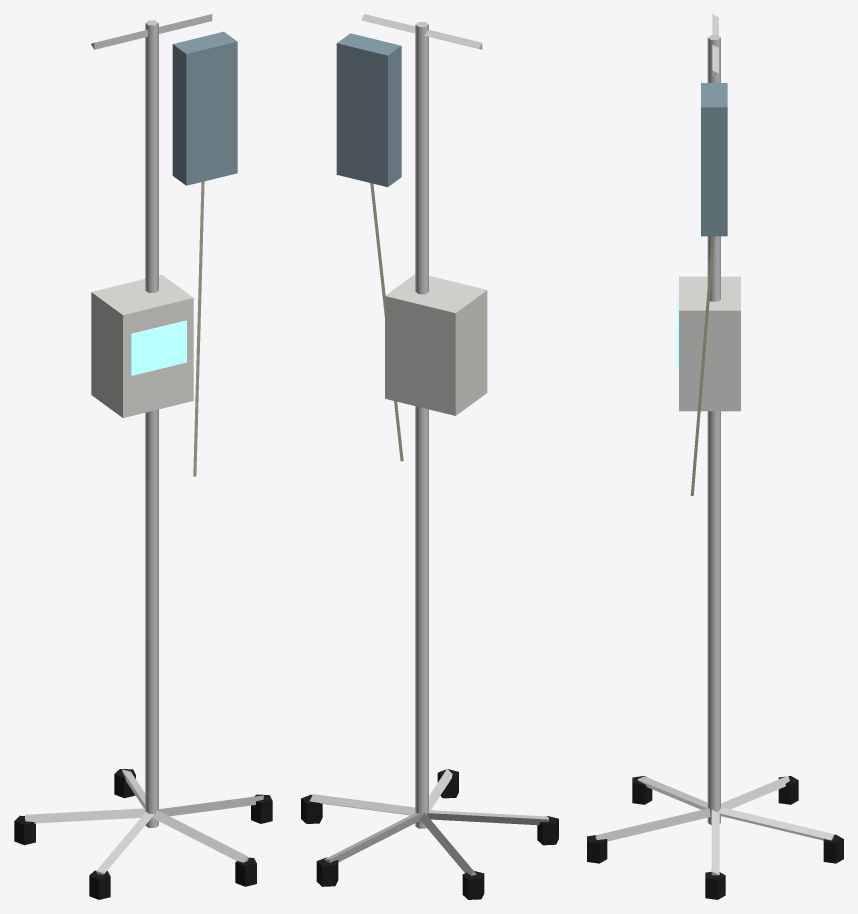
File: iv_stand.glb
3 views of the same model, side by side, from view 1: azimuth 30°, elevation 25°; view 2: azimuth 150°, elevation 25°; view 3: azimuth 270°, elevation 25° (orthographic). The views are drawn at different scales.
Visible parts, largest first — view 1: iv_stand; view 2: iv_stand; view 3: iv_stand.
Boxes of the visible parts, box(x1,y1,x2,y2) form: iv_stand: box(14, 14, 272, 899); iv_stand: box(301, 14, 558, 899); iv_stand: box(587, 14, 843, 899).
Bounding box in the file's own units: 0.5541 × 2 × 0.5778.
Materials: 1 (1 with a texture image).
